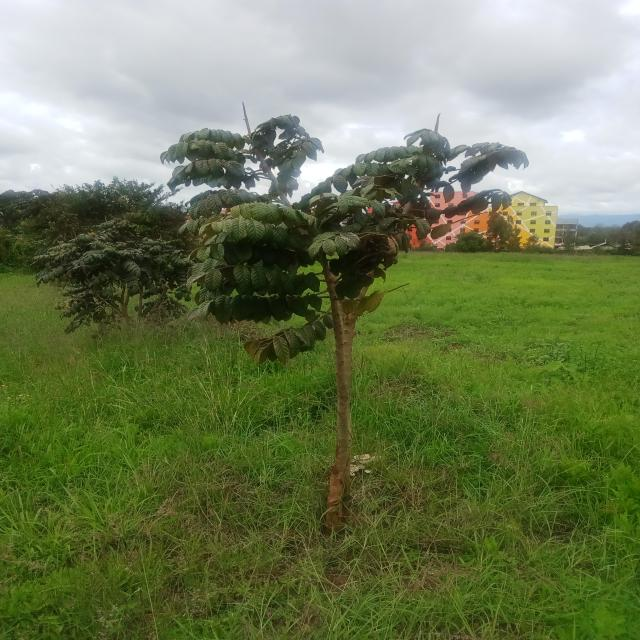Polyscias Kikuyensis: (160, 110, 538, 519), (33, 215, 197, 328)
